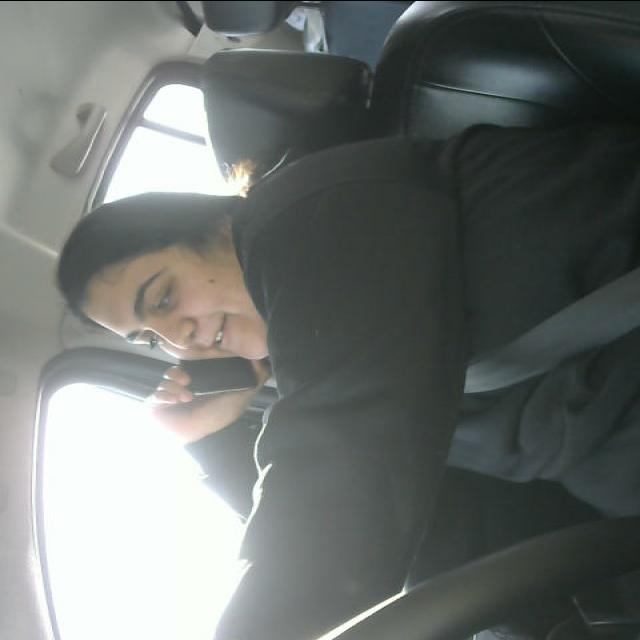mobile use: (175, 352, 272, 398)
